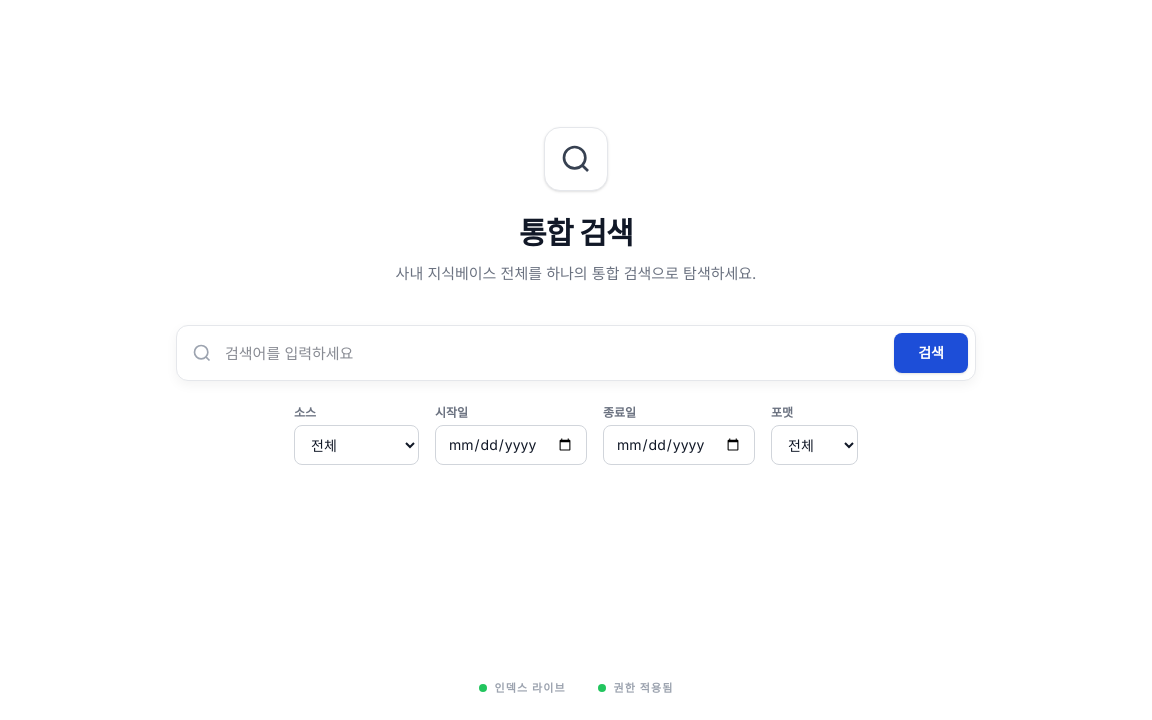
Test: SearchPage › 빈 결과면 안내 메시지를 보여준다
In the search field labelled "검색어": {"x": 576, "y": 353} [176,325,976,381], type "없음"
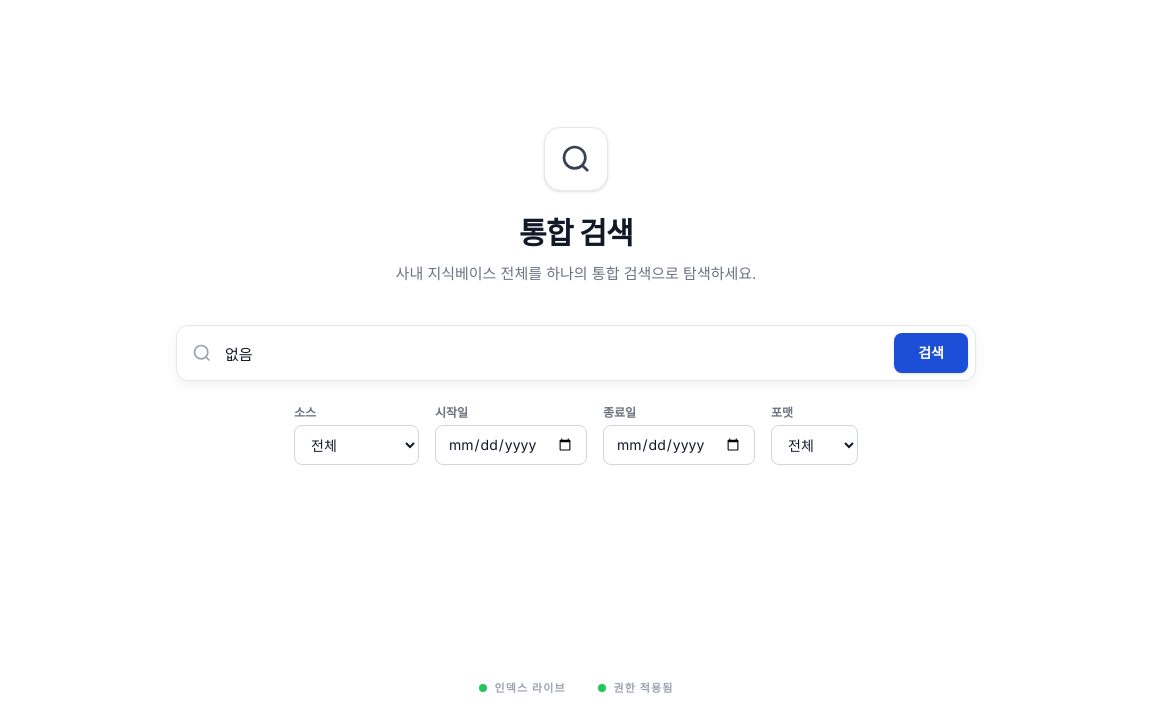
Click the button "검색": {"x": 931, "y": 353} [894,333,968,373]
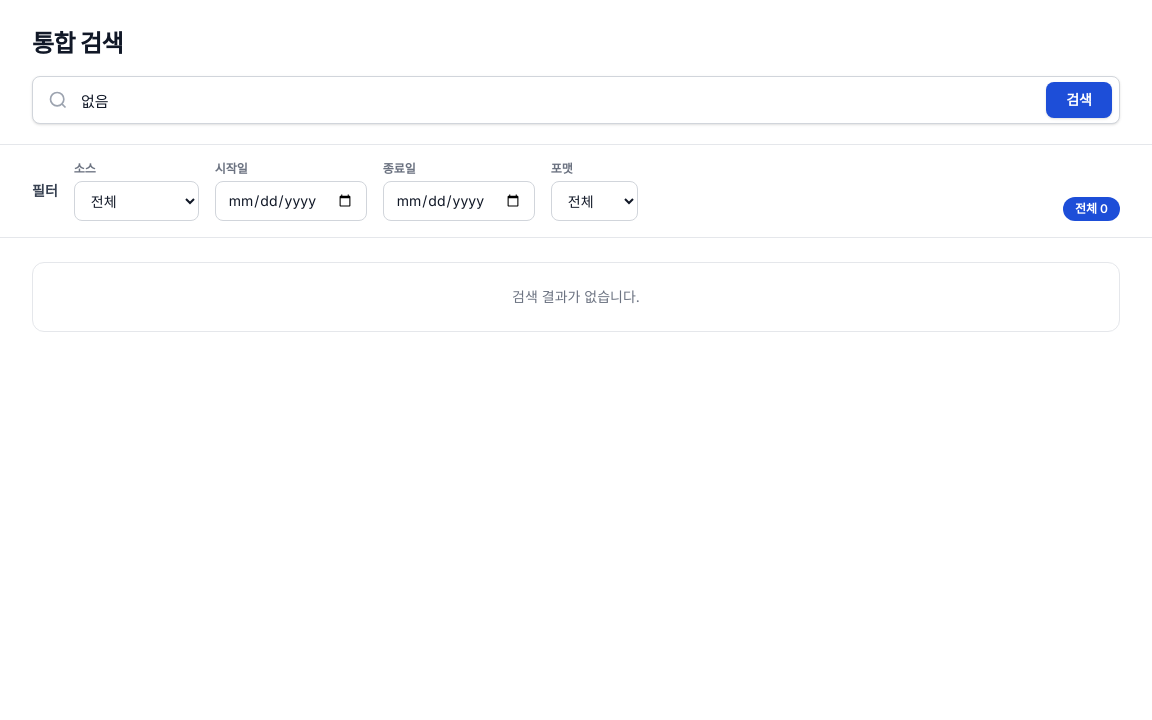
Check: the text "검색 결과가 없습니다." is shown, box [32,262,1120,332]
